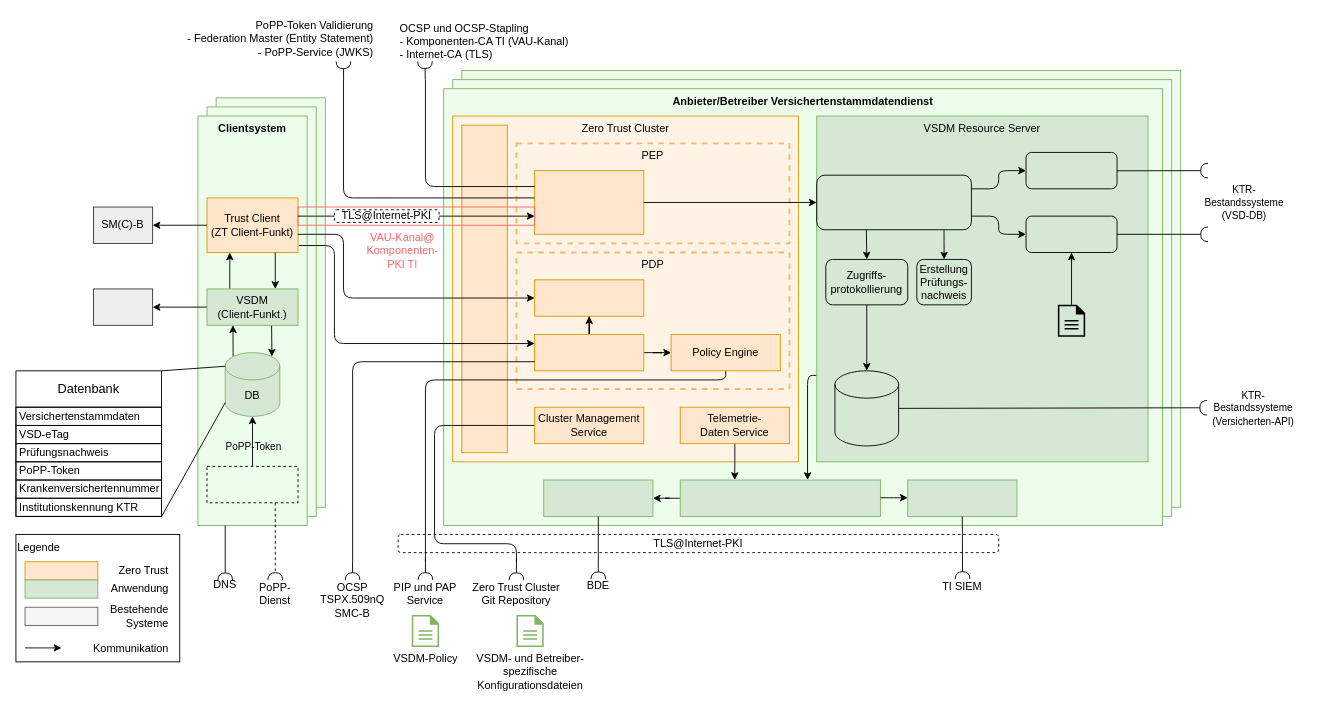
The diagram is 1333 pixels wide and 708 high, and some of its shapes have lost their labels. The centre of each missing label's shape, as x and y in pixels:
"Authorization Server" belongs at (x=589, y=352).
"BDE Lieferung" belongs at (x=598, y=497).
"Client Registry" belongs at (x=589, y=297).
"eGK" belongs at (x=123, y=306).
"FHIR-Fassade" belongs at (x=1071, y=234).
"HTTP-Proxy" belongs at (x=589, y=202).
"Ingress und Egress" belongs at (x=484, y=288).
"Mapping-Regeln gemäß FHIR-Profil VSDMPatient" belongs at (x=1071, y=320).
"Monitoring" belongs at (x=779, y=497).
"PoPP (Client-Funkt.)" belongs at (x=252, y=484).
"SIEM" belongs at (x=962, y=497).
"VSD-Aktualitätsprüfung" belongs at (x=1071, y=170).
"VSDService -API" belongs at (x=893, y=202).
"Zugriffs-protokoll" belongs at (x=866, y=408).
